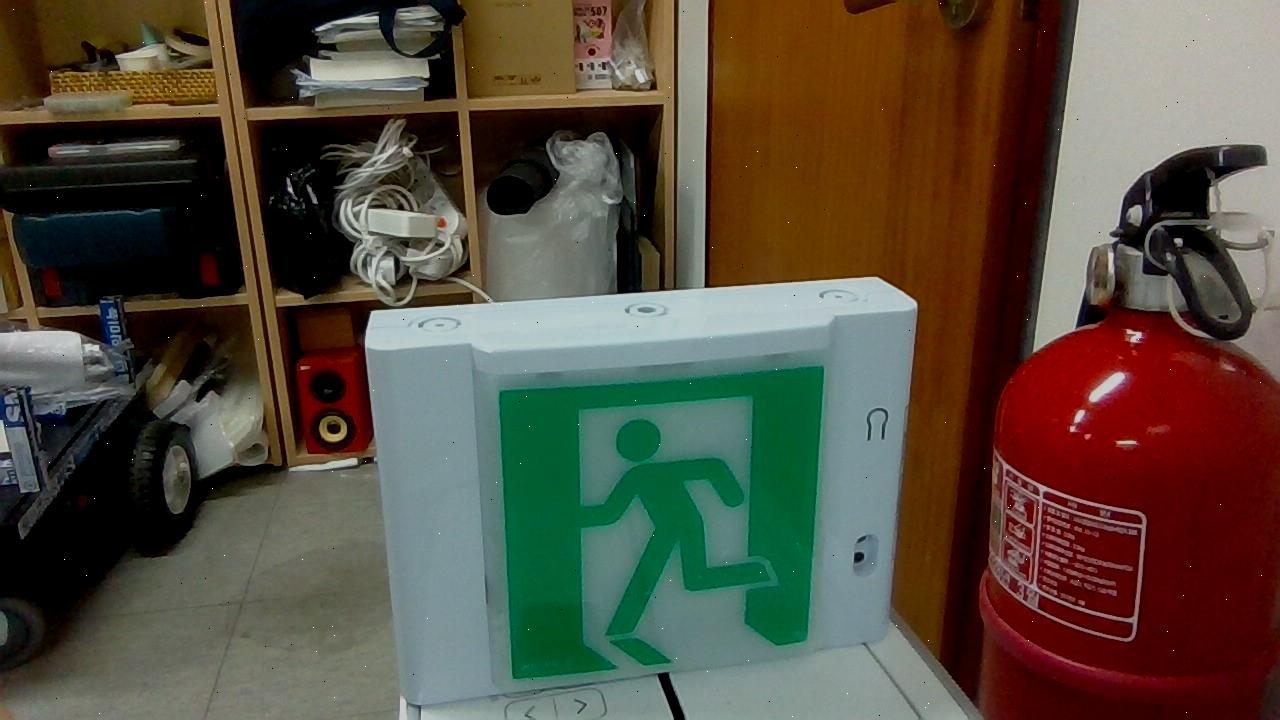emergency_exit: (364, 275, 920, 709), (494, 362, 828, 683)
